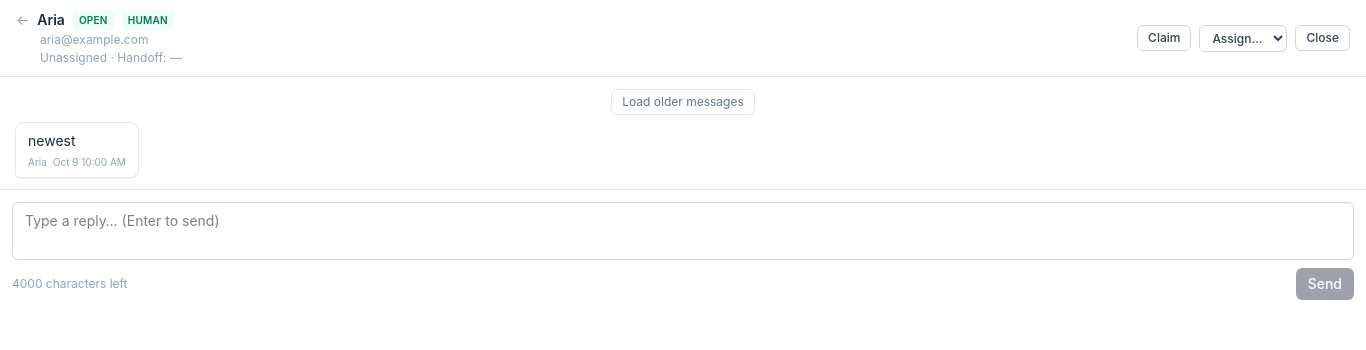
ConversationPane › paginates older messages by merging into the loaded state
The image size is (1366, 350).
Expected: the text "newest" is shown, [28,132,76,149]
Click the button "Load older messages": x=683, y=102 [611,89,755,115]
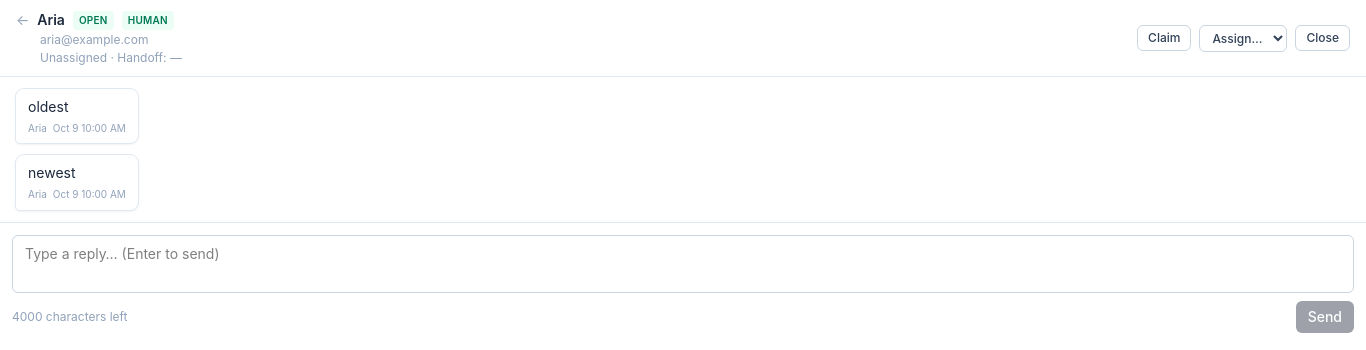
Expected: the text "oldest" is shown, [28,98,68,115]
